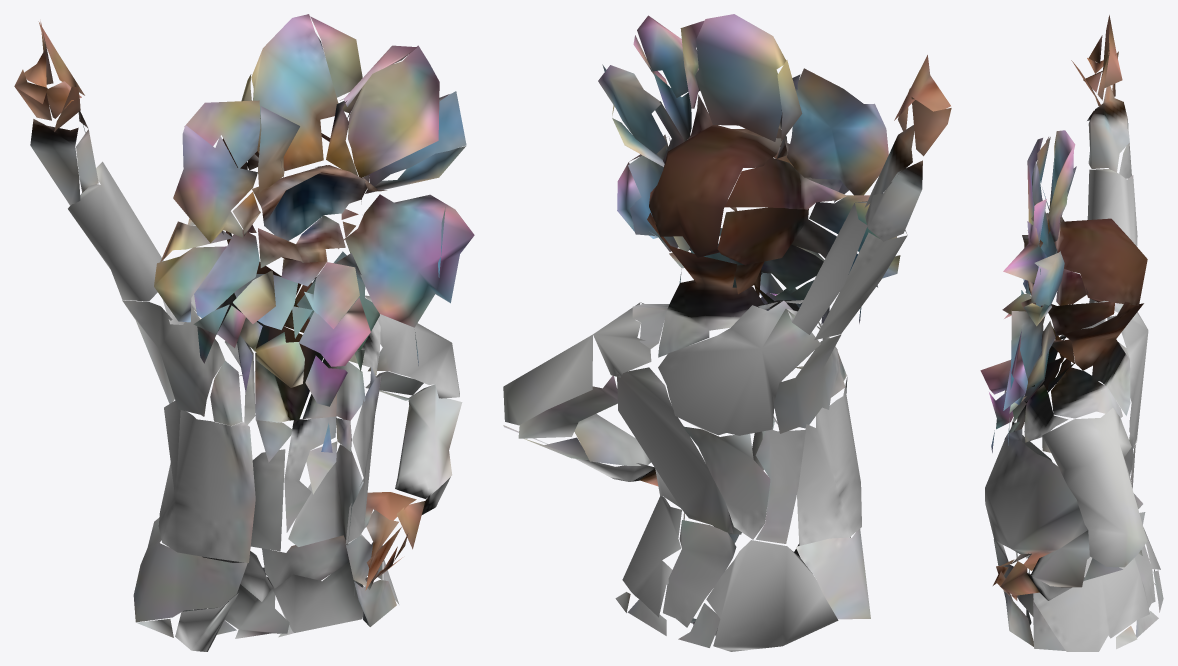
File: crowd_discoking_upper.glb
3 views of the same model, side by side, from view 1: azimuth 30°, elevation 25°; view 2: azimuth 150°, elevation 25°; view 3: azimuth 270°, elevation 25° (orthographic). The views are drawn at different scales.
Visible parts, largest first — view 1: tripo_node_b34096fa-347c-4600-b127-7b8cc124b146; view 2: tripo_node_b34096fa-347c-4600-b127-7b8cc124b146; view 3: tripo_node_b34096fa-347c-4600-b127-7b8cc124b146.
Boxes of the visible parts, bbox=[...] form: tripo_node_b34096fa-347c-4600-b127-7b8cc124b146: bbox=[14, 14, 474, 651]; tripo_node_b34096fa-347c-4600-b127-7b8cc124b146: bbox=[503, 14, 951, 651]; tripo_node_b34096fa-347c-4600-b127-7b8cc124b146: bbox=[980, 15, 1163, 651].
Size of the model in its own units: 0.4434 by 0.5979 by 0.1937.
Materials: 1 (1 with a texture image).
